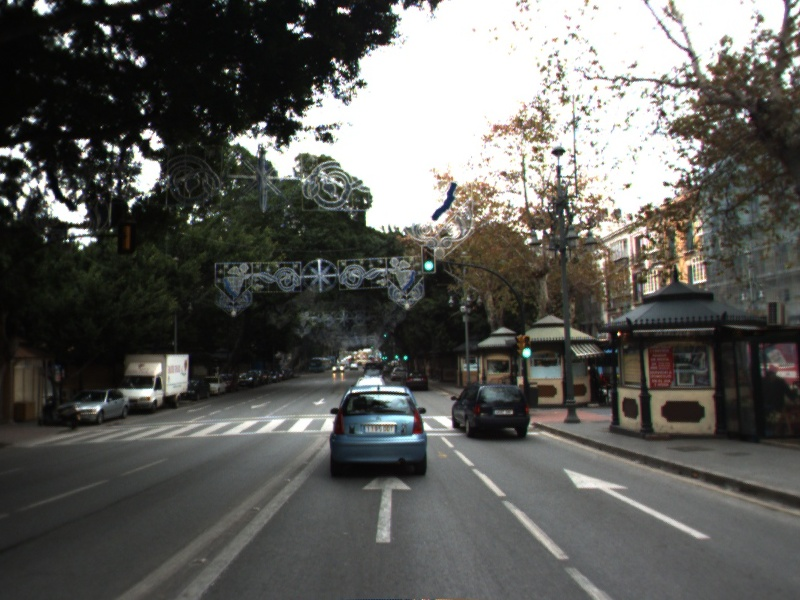STRAIGHT: (561, 466, 713, 541), (360, 472, 414, 545)
